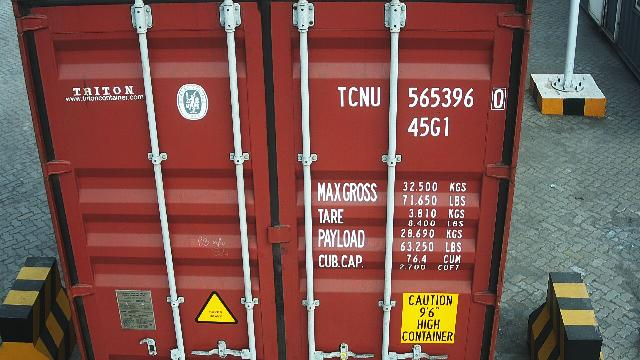0: (490, 88, 506, 110)
3: (441, 86, 451, 108)
5: (408, 86, 418, 108), (430, 86, 440, 108)
6: (418, 87, 429, 108), (464, 87, 474, 108)
9: (453, 86, 463, 108)
C: (348, 86, 358, 108)
N: (359, 86, 369, 108)
T: (337, 86, 347, 108)
U: (371, 86, 382, 108)
